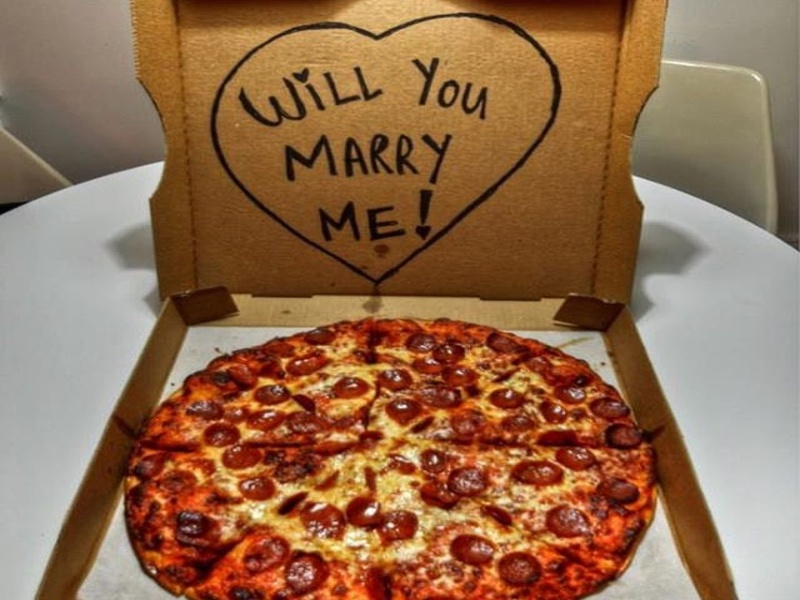peperoni: (301, 500, 346, 545), (282, 550, 327, 595), (508, 459, 565, 491), (449, 532, 496, 570), (242, 534, 289, 571), (496, 551, 542, 588), (545, 505, 590, 542), (446, 466, 489, 498), (202, 419, 242, 451), (346, 494, 381, 529), (385, 394, 419, 430), (380, 510, 418, 542), (598, 476, 638, 505), (224, 443, 264, 472), (236, 474, 274, 503), (488, 387, 530, 412), (603, 425, 640, 453), (284, 350, 325, 374), (253, 383, 293, 406), (330, 378, 369, 401), (379, 368, 410, 390)
